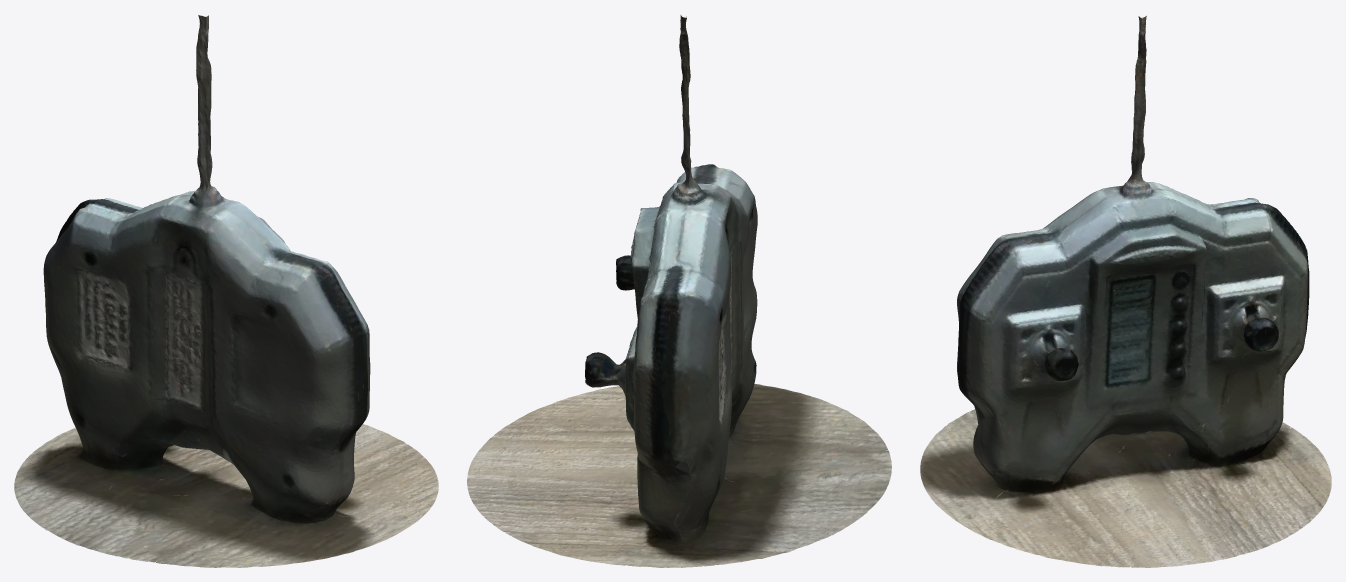
The model's file is remote-control-super-compressed.glb.
3 renders of one model, left to right at view 1: azimuth 30°, elevation 25°; view 2: azimuth 150°, elevation 25°; view 3: azimuth 270°, elevation 25°, orthographic. The views are drawn at different scales.
Visible parts, largest first — view 1: mesh_0; view 2: mesh_0; view 3: mesh_0.
Boxes of the visible parts, x1=… form: mesh_0: x1=14, y1=15, x2=438, y2=567; mesh_0: x1=467, y1=15, x2=891, y2=567; mesh_0: x1=920, y1=16, x2=1331, y2=567.
Size of the model in its own units: 0.3355 by 0.4149 by 0.3355.
Materials: 1 (1 with a texture image).
